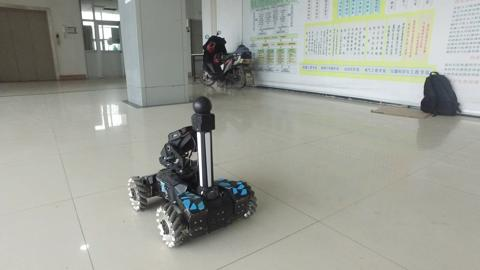bag: (412, 67, 465, 120)
chariot: (121, 89, 269, 247)
